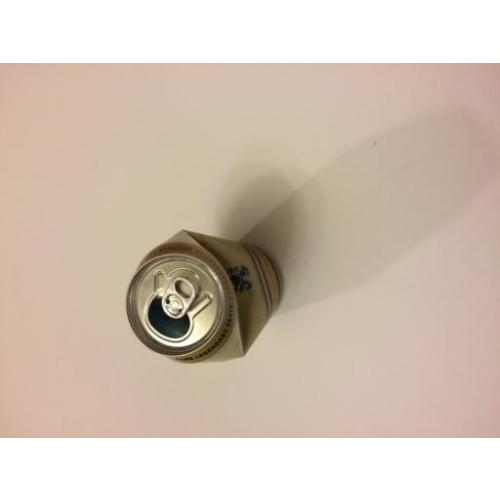metal: (127, 230, 282, 365)
